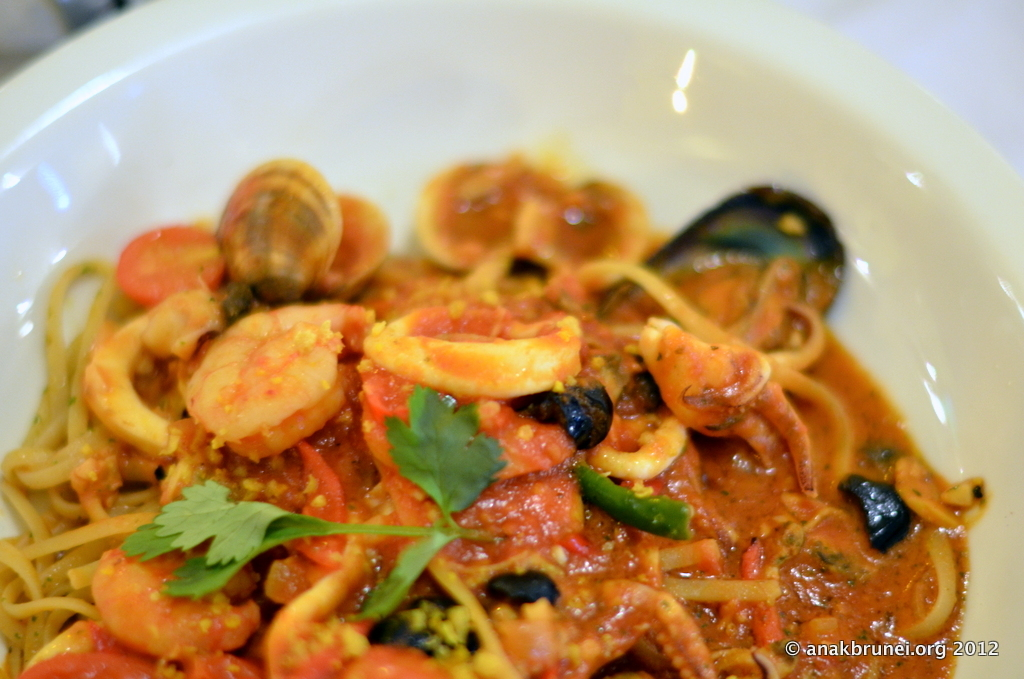pasta: (0, 165, 977, 677)
